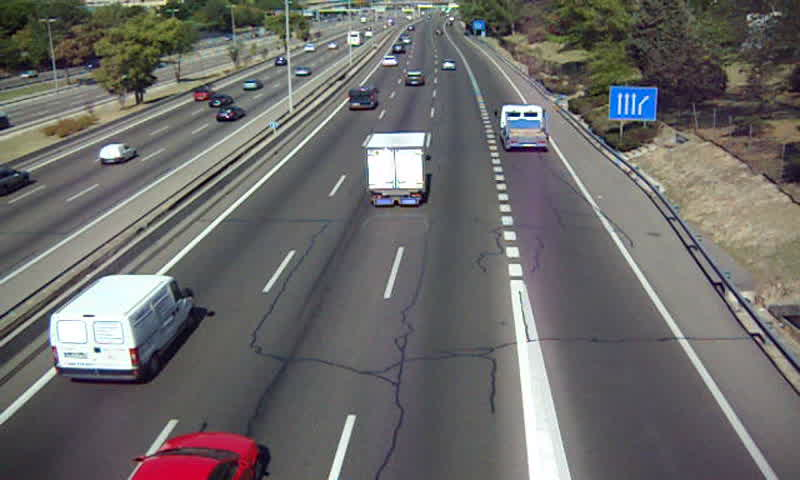car: (403, 70, 426, 89), (380, 54, 397, 69), (441, 59, 458, 71)
small-truck: (363, 133, 428, 208), (499, 104, 548, 151)
van: (50, 275, 192, 385), (347, 85, 378, 110)
